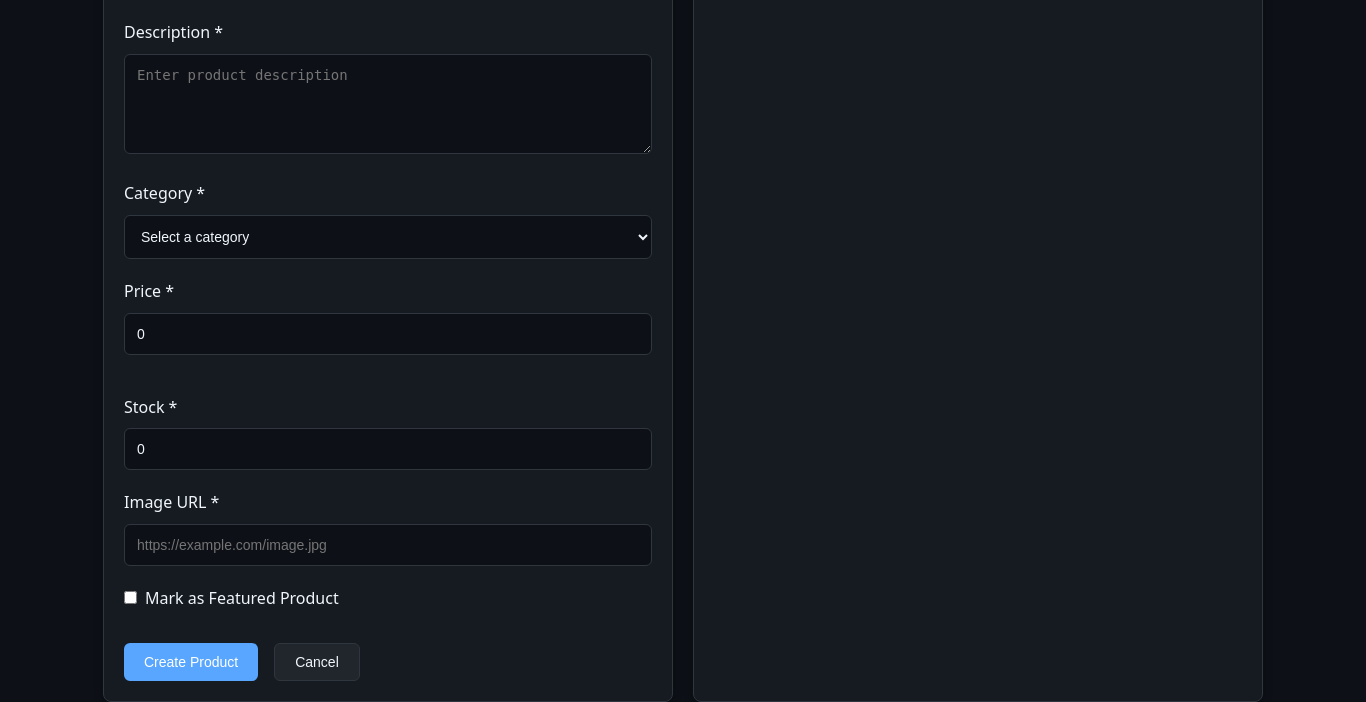
Test: AddProduct Component › shows validation error for empty required fields
(page scrolled)
What coordinates should you click on to do the following:
click the button "Create Product"
I would click on:
 (191, 662)
Its box is [124,643,258,681].
(page scrolled)
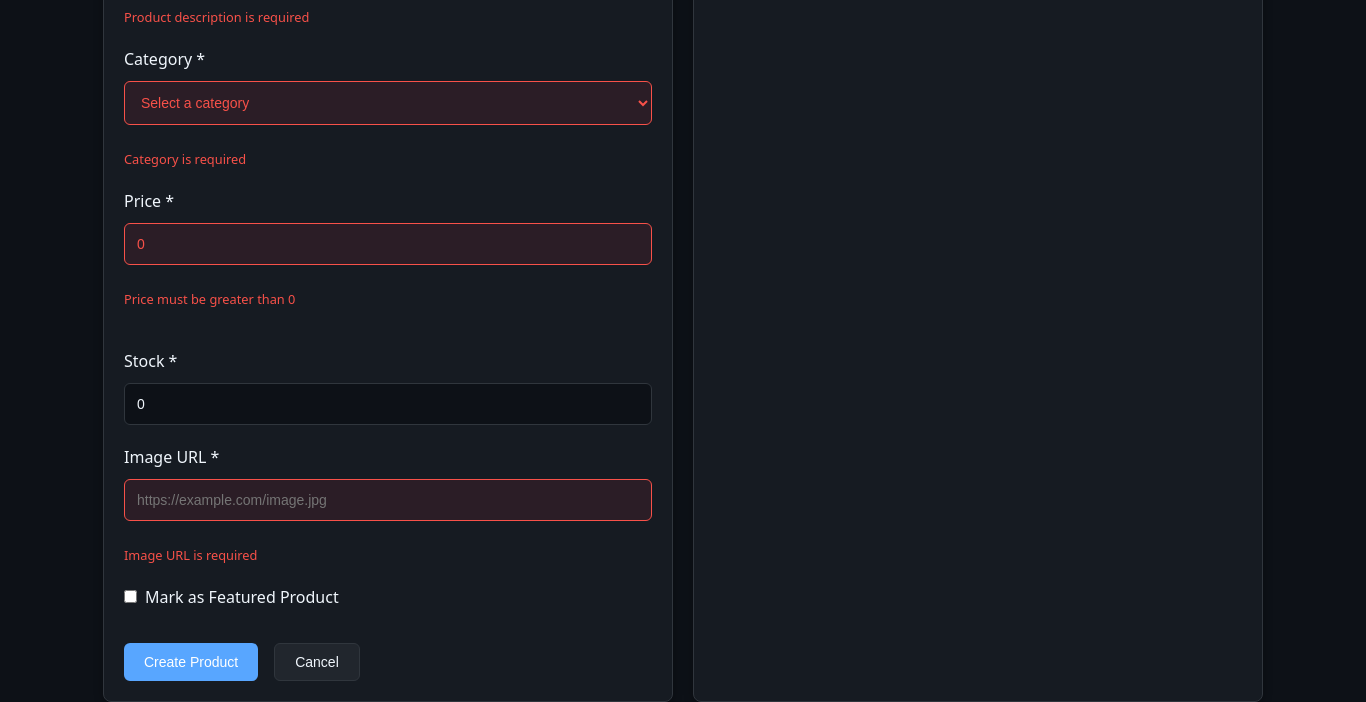
Expected: the text "Product description is required" is shown, [124,8,309,26]
Expected: the text "Category is required" is shown, [124,150,246,168]
Expected: the text "Price must be greater than 0" is shown, [124,290,295,308]
